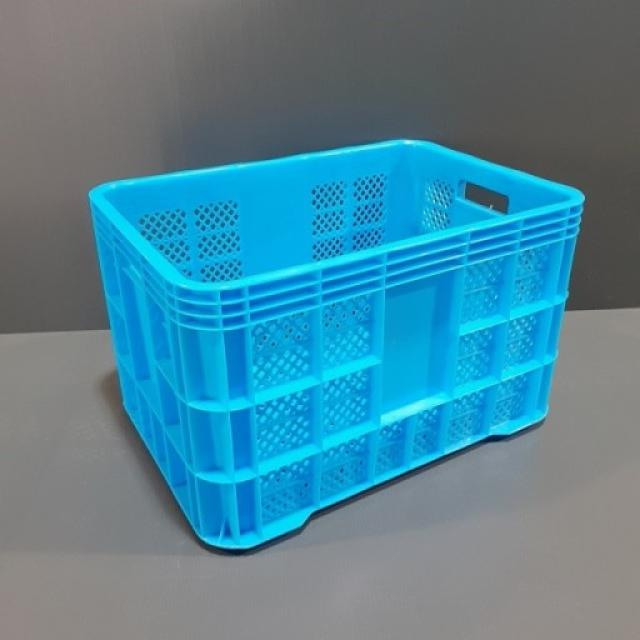basket: (88, 123, 616, 563)
